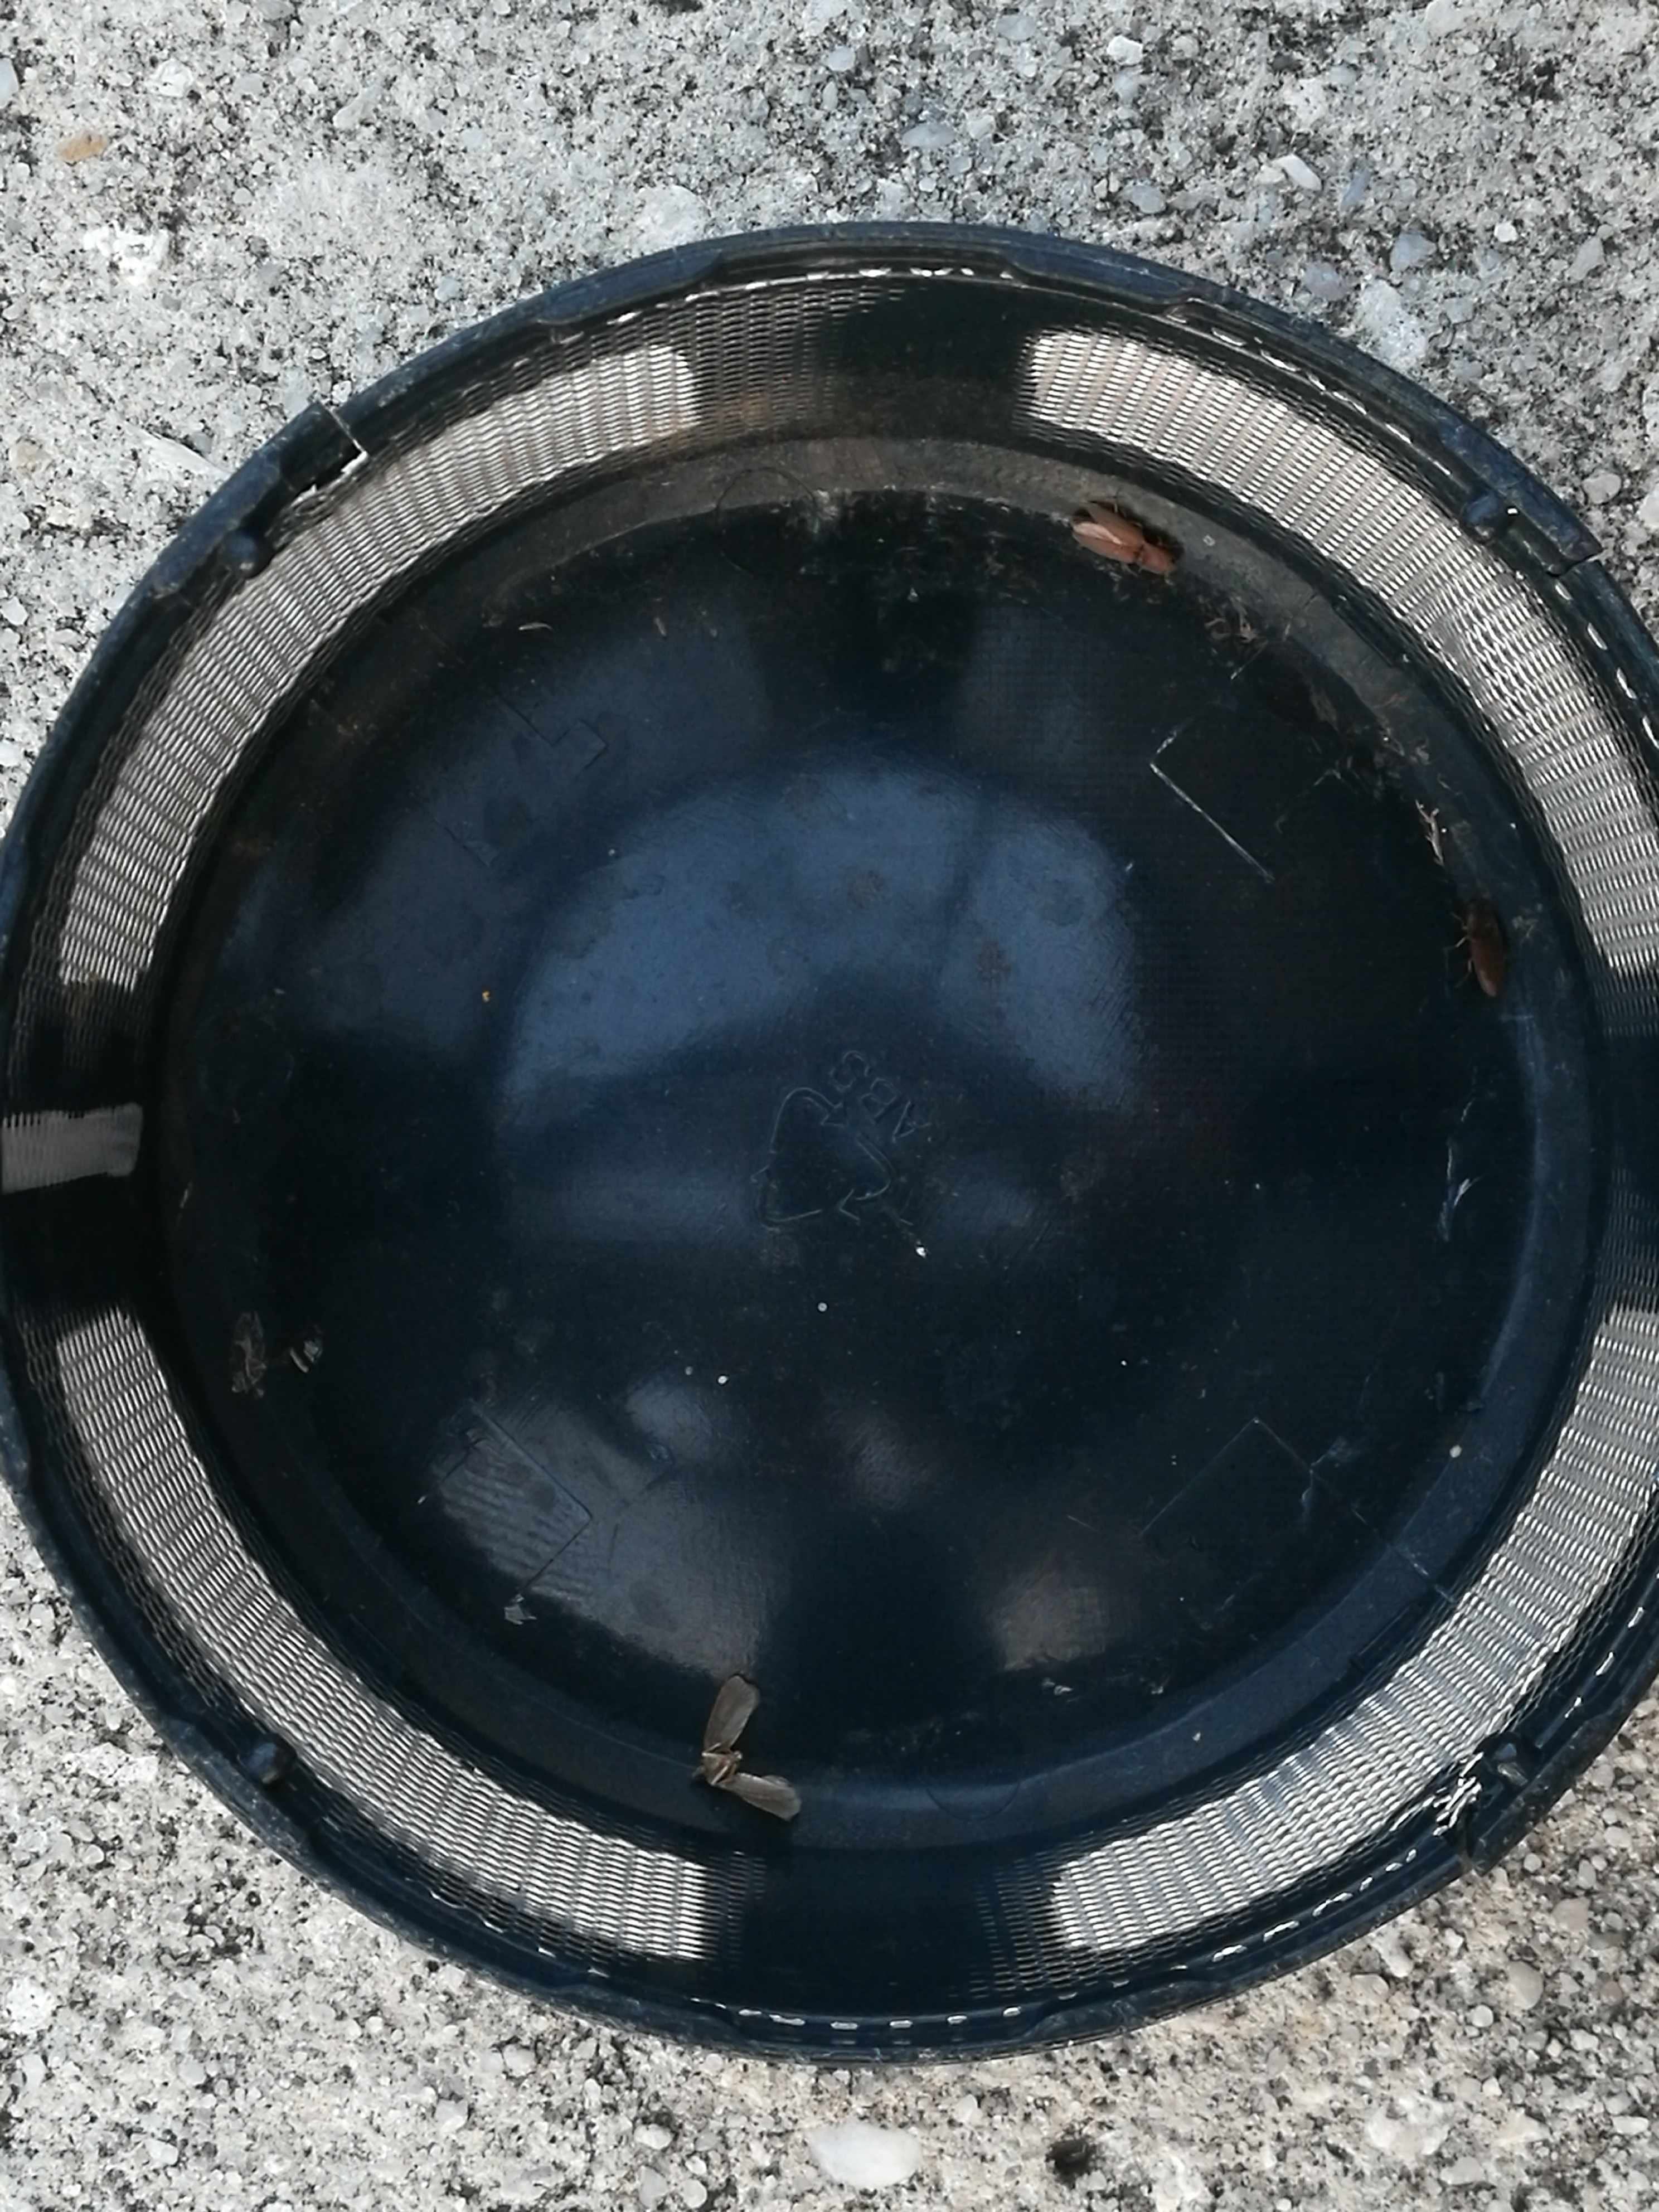mosquito: (1072, 503, 1171, 575), (1471, 892, 1506, 995)
moth: (701, 1672, 796, 1817)
